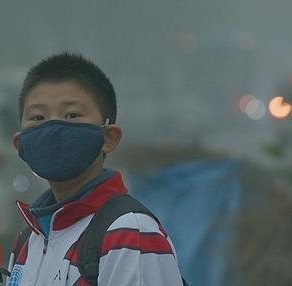person: (1, 49, 183, 285)
